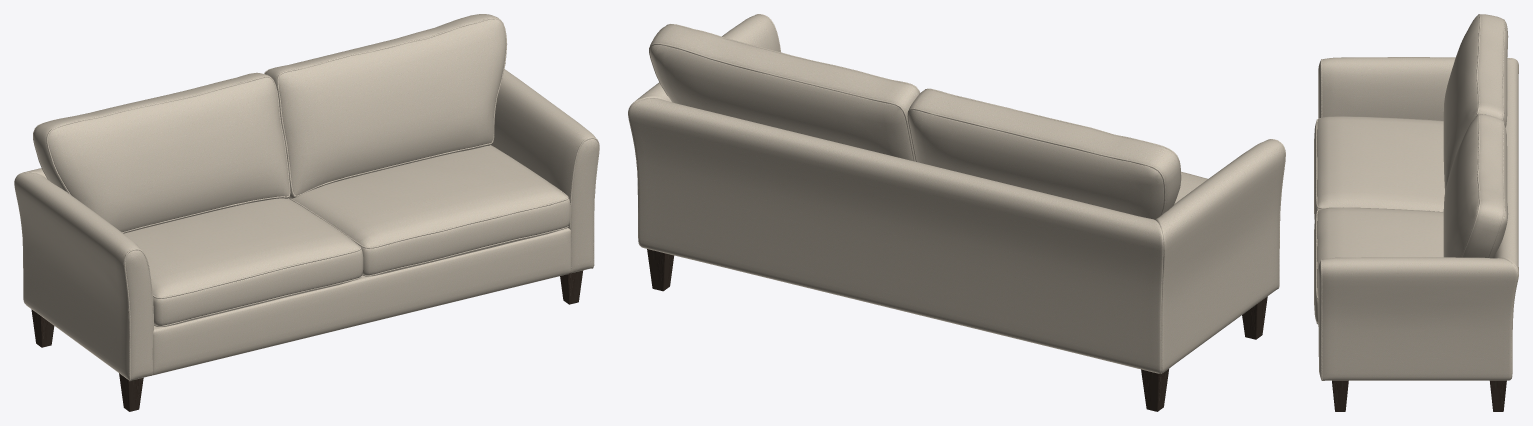
The model's file is ekholma_sofa_3_osobowa_79535594.glb.
3 renders of one model, left to right at view 1: azimuth 30°, elevation 25°; view 2: azimuth 150°, elevation 25°; view 3: azimuth 270°, elevation 25°, orthographic. The views are drawn at different scales.
Parts seen in each view (by area): view 1: ekholma_sofa_3_osobowa_79535594; view 2: ekholma_sofa_3_osobowa_79535594; view 3: ekholma_sofa_3_osobowa_79535594.
Boxes of the visible parts, x1,y1,x2,y2 form: ekholma_sofa_3_osobowa_79535594: (14, 14, 599, 411); ekholma_sofa_3_osobowa_79535594: (628, 14, 1285, 411); ekholma_sofa_3_osobowa_79535594: (1314, 14, 1518, 411).
Size of the model in its own units: 2.07 by 0.9401 by 0.8505.
2 materials, 2 textured.
